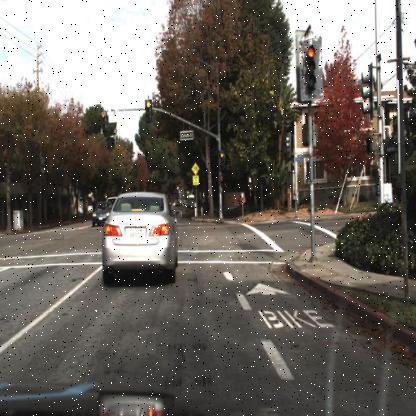car: (104, 190, 176, 293), (91, 199, 112, 224)
trafficLight-Red: (302, 37, 317, 96), (303, 40, 317, 82), (215, 146, 227, 168), (144, 98, 153, 123), (218, 148, 226, 174)
trafficLight-RedLeft: (99, 108, 108, 136)
